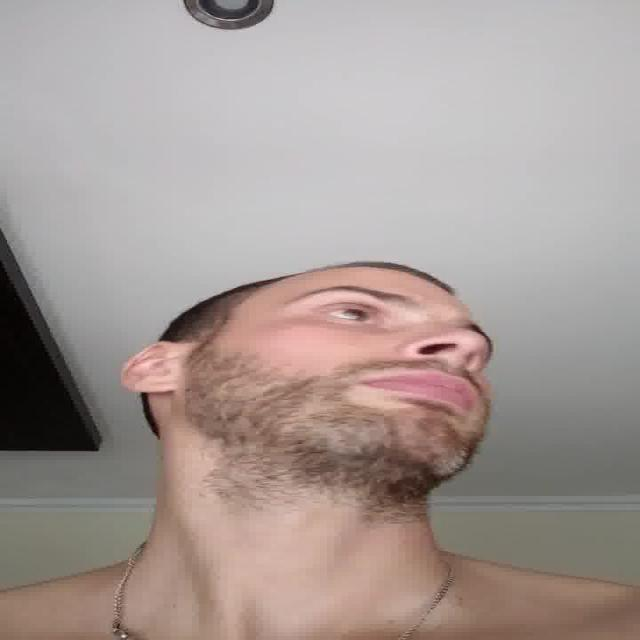earlobe: (127, 379, 178, 393)
eye: (320, 305, 378, 323)
nose: (412, 346, 479, 382)
wholeear: (123, 342, 178, 394)
